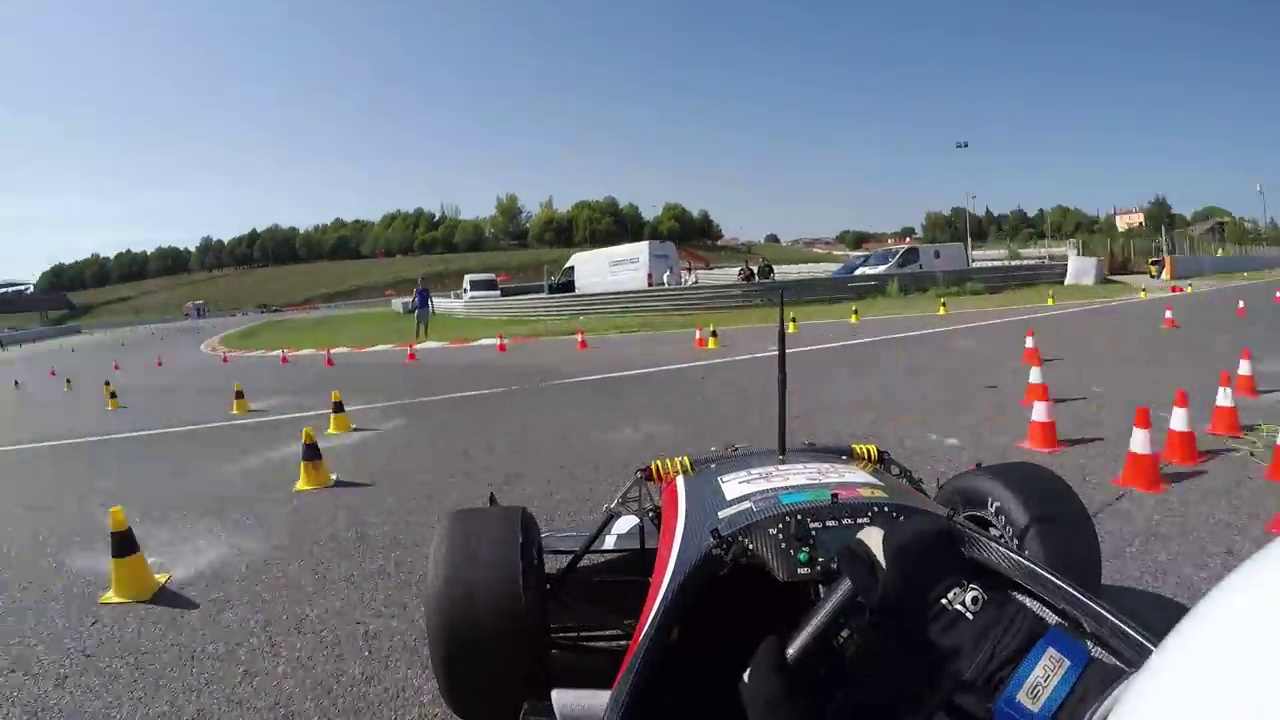Cone: (102, 506, 163, 609), (1116, 403, 1162, 493), (1015, 379, 1070, 453), (1154, 388, 1203, 471), (1206, 370, 1250, 438), (291, 427, 334, 491), (1018, 356, 1056, 408), (323, 388, 359, 434), (1016, 331, 1044, 363), (230, 381, 252, 413)
